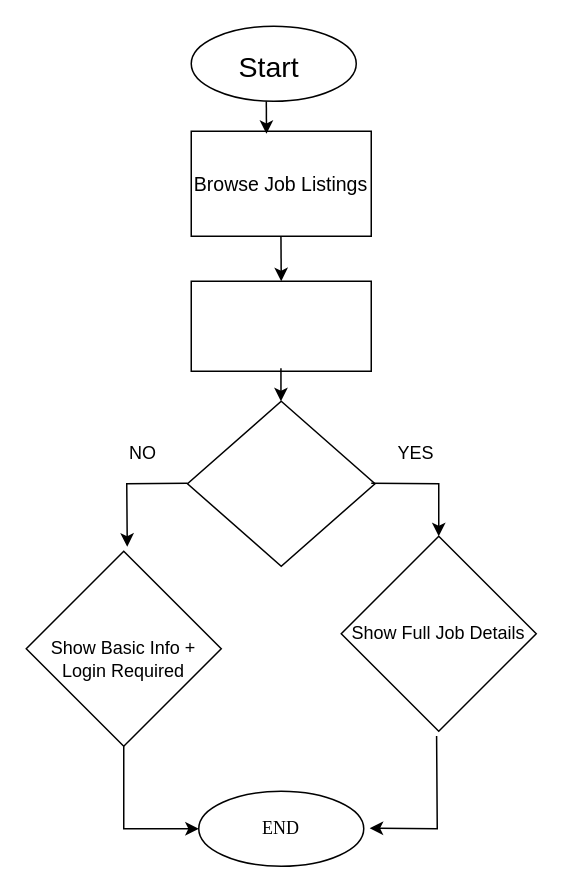
Image size: 563x893. Some labels were removed from this diagram. The shapes that lost their labels are listed below. From the top down, each one's box as (x1, y1, x2, y2) in pixels, then its label:
(190, 280, 371, 371): Click Selected Job
(186, 400, 375, 566): Is User Logged In?
